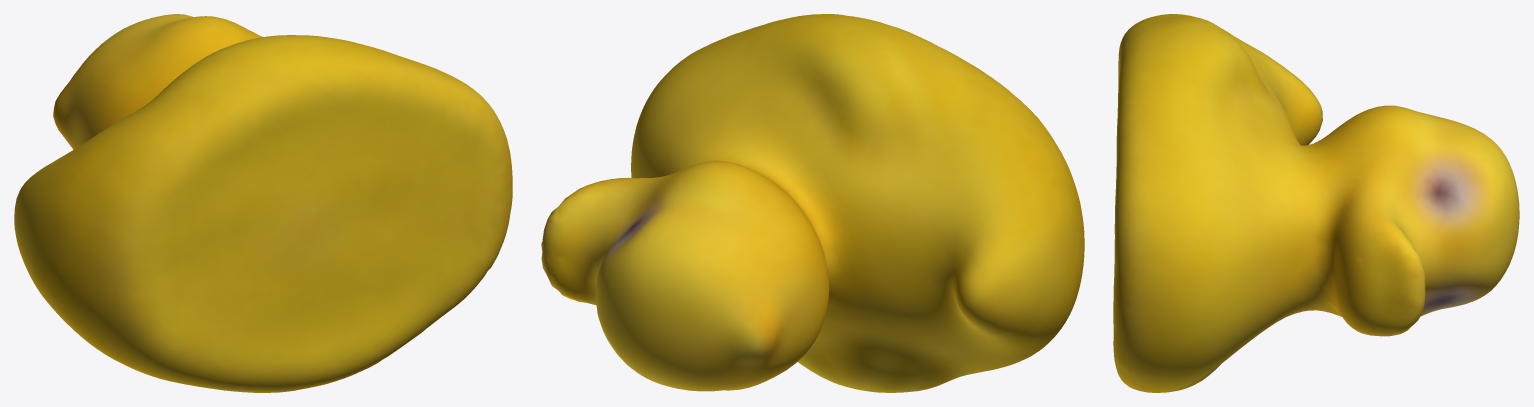
Rendered from duck.obj.
3 views of the same model, side by side, from view 1: azimuth 30°, elevation 25°; view 2: azimuth 150°, elevation 25°; view 3: azimuth 270°, elevation 25° (orthographic). The views are drawn at different scales.
Bounding box in the file's own units: 104 × 77.41 × 85.7.
